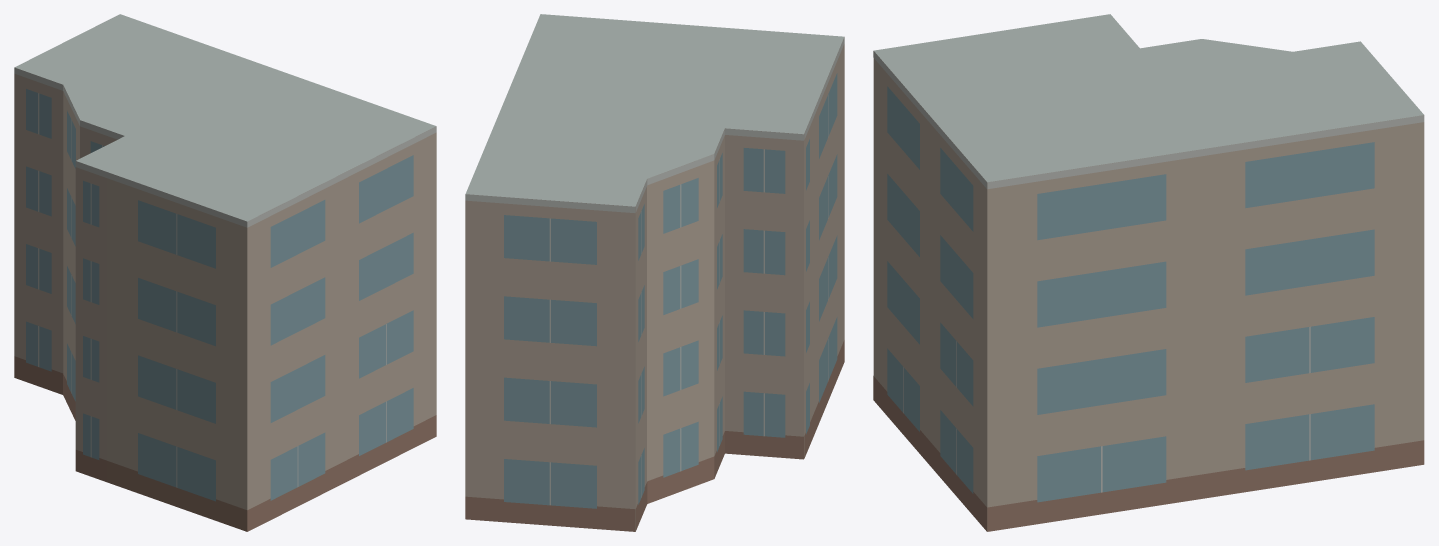
Rendered from residential-1761939b-1a97-42db-88bd-d3790a18bb73.glb.
The picture shows the model from 3 angles, left to right: view 1: azimuth 30°, elevation 25°; view 2: azimuth 150°, elevation 25°; view 3: azimuth 270°, elevation 25°; orthographic projection. The views are drawn at different scales.
Visible parts, largest first — view 1: residential-1761939b-1a97-42db-88bd-d3790a18bb73.tmp; view 2: residential-1761939b-1a97-42db-88bd-d3790a18bb73.tmp; view 3: residential-1761939b-1a97-42db-88bd-d3790a18bb73.tmp.
Boxes of the visible parts, x1,y1,x2,y2 form: residential-1761939b-1a97-42db-88bd-d3790a18bb73.tmp: [14, 14, 436, 531]; residential-1761939b-1a97-42db-88bd-d3790a18bb73.tmp: [465, 14, 844, 531]; residential-1761939b-1a97-42db-88bd-d3790a18bb73.tmp: [873, 14, 1424, 531].
Bounding box in the file's own units: 12.61 × 12.2 × 17.43.
